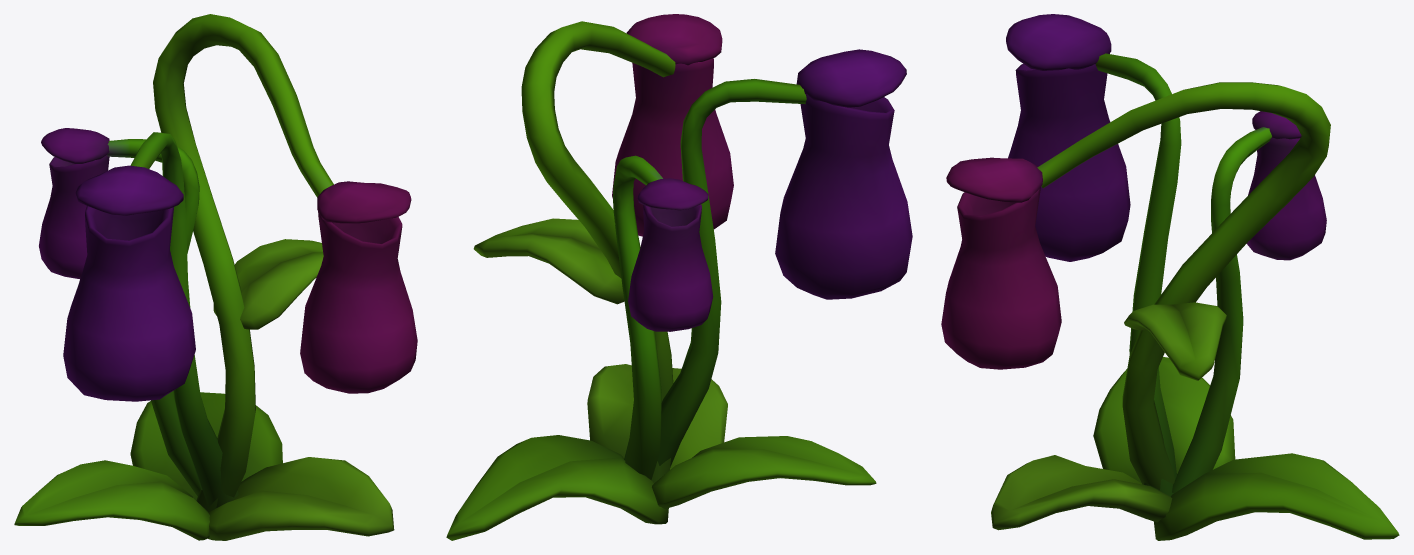
Rendered from Plant_3.fbx.
The picture shows the model from 3 angles, left to right: view 1: azimuth 30°, elevation 25°; view 2: azimuth 150°, elevation 25°; view 3: azimuth 270°, elevation 25°; orthographic projection. The views are drawn at different scales.
Parts seen in each view (by area): view 1: Plant_3; view 2: Plant_3; view 3: Plant_3.
Part boxes in pixels (x1,y1,x2,y2): Plant_3: (14, 14, 417, 540); Plant_3: (446, 14, 912, 540); Plant_3: (941, 14, 1399, 540).
Size of the model in its own units: 424 by 516 by 454.
